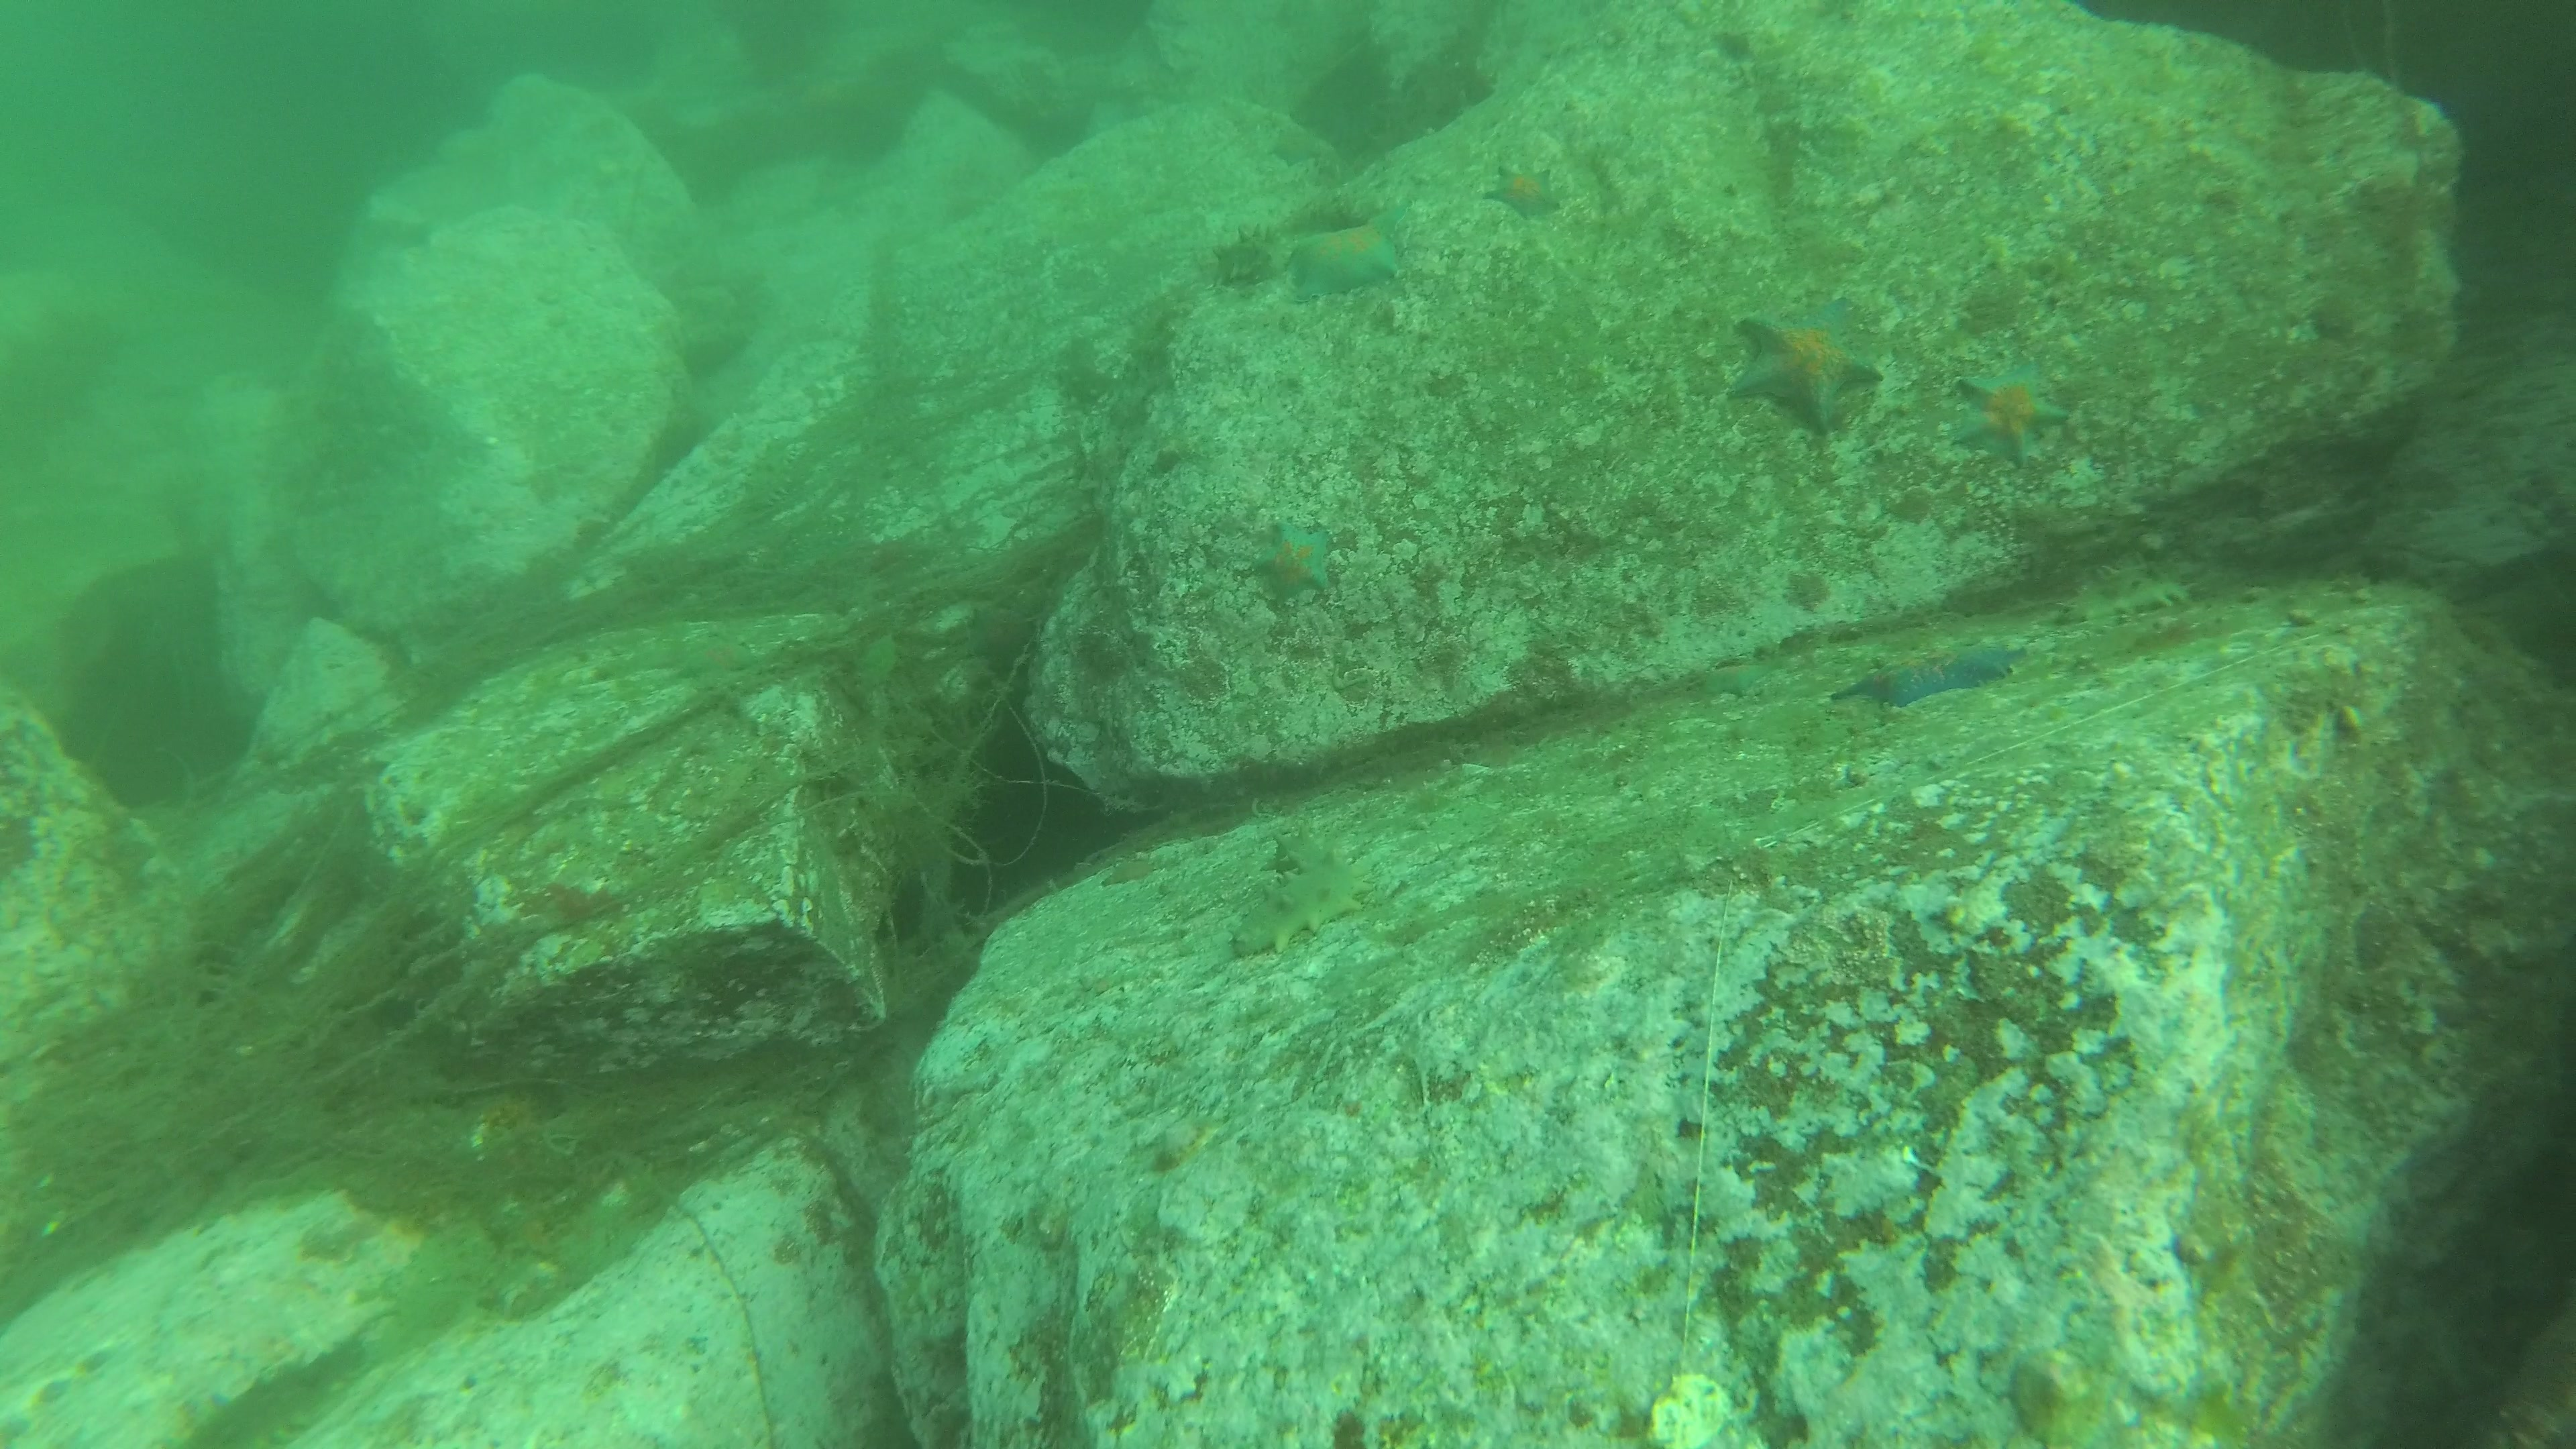holothurian: (1228, 830, 1382, 966), (1205, 219, 1299, 292)
starfish: (1723, 294, 1890, 435), (1943, 350, 2075, 474), (1833, 632, 2020, 717), (1279, 211, 1412, 308), (1247, 517, 1334, 605), (1477, 161, 1568, 225), (662, 633, 766, 688)
